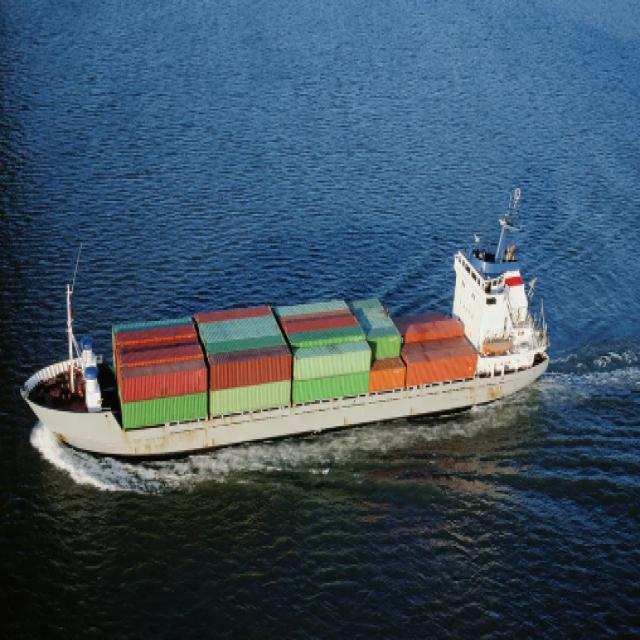cargoship: (18, 193, 566, 474)
